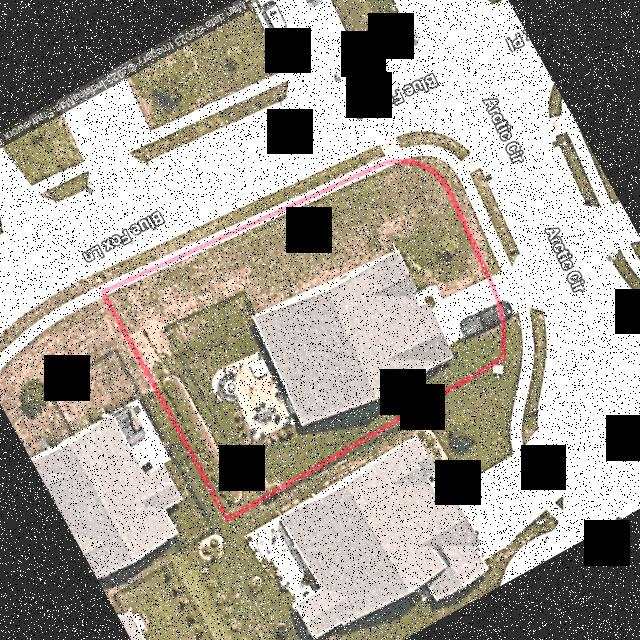Driveway: (416, 279, 496, 345)
Extra Driveway: (491, 252, 545, 317)
Extra Lawn: (92, 144, 384, 286), (416, 156, 501, 275), (471, 169, 519, 265), (396, 132, 470, 160), (505, 313, 525, 360), (530, 309, 547, 345)
Extra Sidewalk: (380, 137, 513, 273), (519, 310, 535, 350), (463, 152, 479, 173)
House: (252, 250, 453, 426)
Other: (212, 352, 290, 435)
